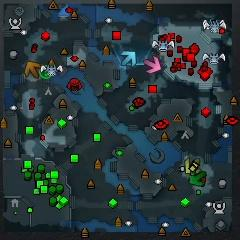Other: (39, 65, 51, 79)
x1: (144, 56, 161, 74)
x2: (185, 157, 200, 174)
x3: (120, 51, 136, 67)
x4: (189, 171, 207, 186)
x5: (25, 61, 40, 79)
